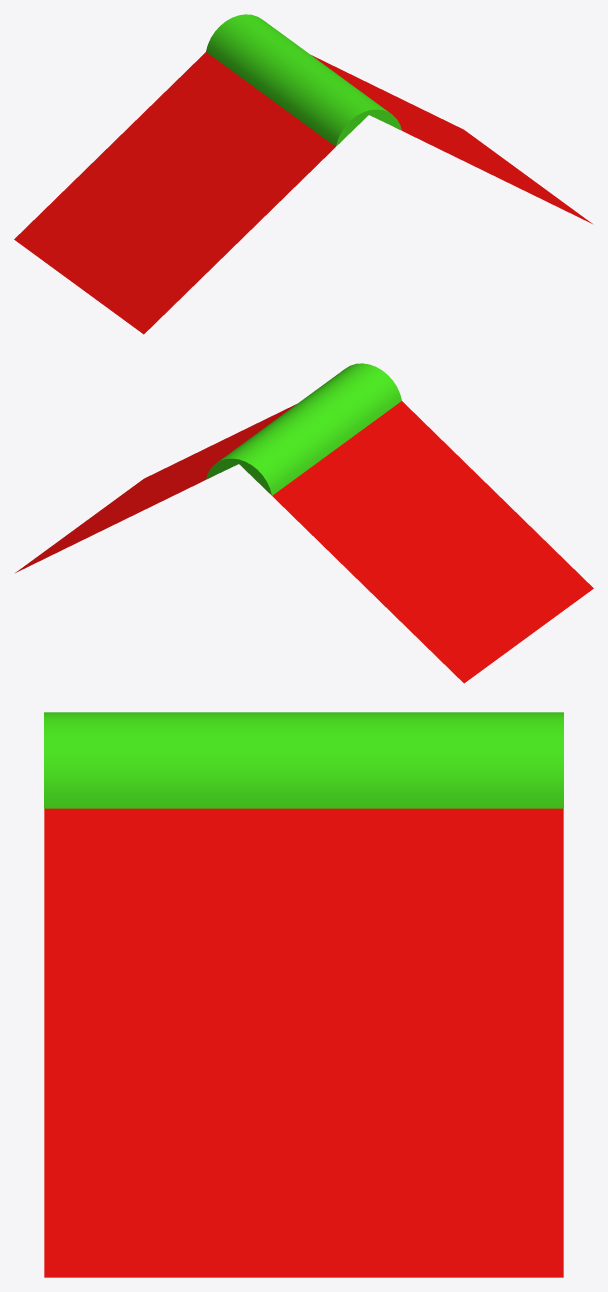
Rendered from roof_01.fbx.
3 renders of one model, top to bottom at view 1: azimuth 30°, elevation 25°; view 2: azimuth 150°, elevation 25°; view 3: azimuth 270°, elevation 25°, orthographic. The views are drawn at different scales.
Visible parts, largest first — view 1: RoofFinalFixed; view 2: RoofFinalFixed; view 3: RoofFinalFixed.
Boxes of the visible parts, left/top/right/bottom form: RoofFinalFixed: left=14, top=14, right=592, bottom=334; RoofFinalFixed: left=15, top=363, right=593, bottom=683; RoofFinalFixed: left=44, top=712, right=563, bottom=1277.
Bounding box in the file's own units: 200 × 71.89 × 100.
